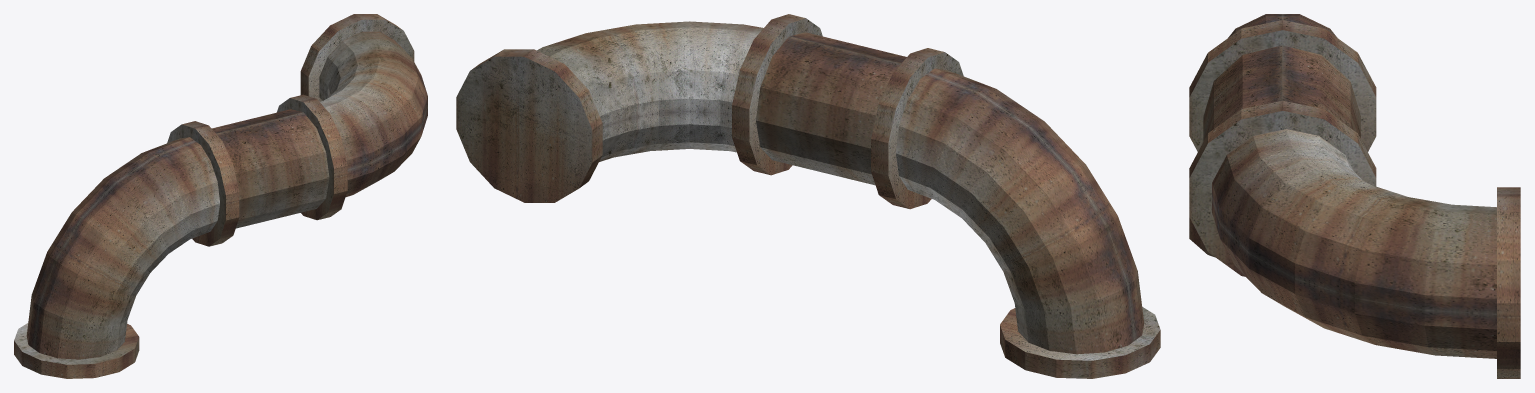
Rendered from pipe_4_lod1.DAE.
3 renders of one model, left to right at view 1: azimuth 30°, elevation 25°; view 2: azimuth 150°, elevation 25°; view 3: azimuth 270°, elevation 25°, orthographic. The views are drawn at different scales.
Parts seen in each view (by area): view 1: Mesh_Object; view 2: Mesh_Object; view 3: Mesh_Object.
Part boxes in pixels (x1,y1,x2,y2): Mesh_Object: (14, 14, 427, 378); Mesh_Object: (456, 14, 1160, 378); Mesh_Object: (1189, 14, 1520, 378).
Size of the model in its own units: 5.31 by 2.14 by 2.16.
